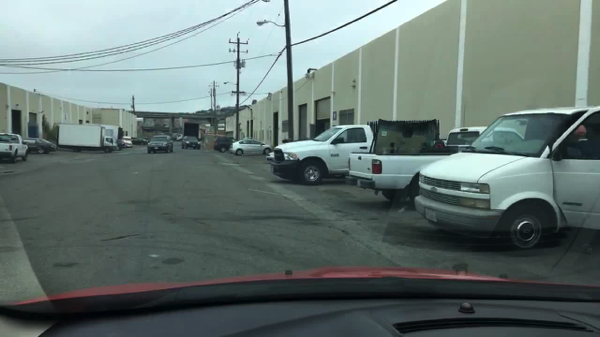car: (413, 104, 599, 251), (0, 132, 30, 163), (230, 138, 272, 156), (22, 137, 57, 154), (147, 134, 174, 154), (213, 135, 236, 153), (180, 135, 201, 149), (132, 137, 149, 146), (122, 135, 133, 148), (265, 152, 276, 161)
truck: (344, 118, 522, 205), (270, 123, 446, 186), (57, 122, 119, 153), (85, 123, 124, 148), (167, 132, 183, 141)
